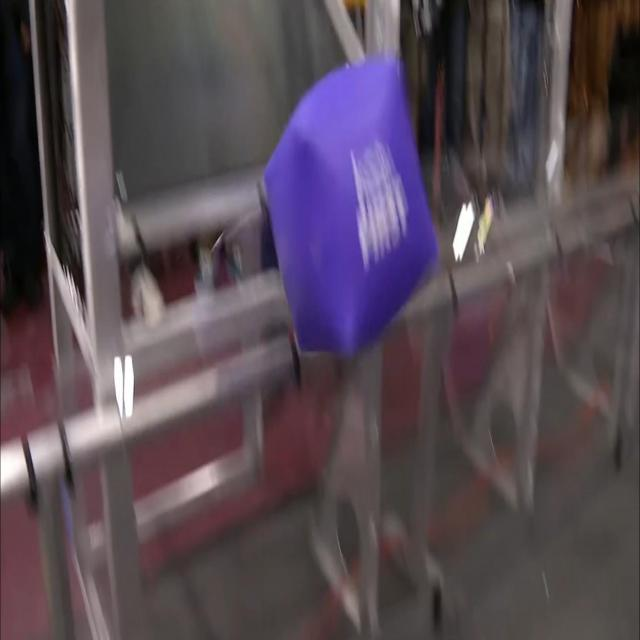frc_cube: (264, 63, 436, 367)
